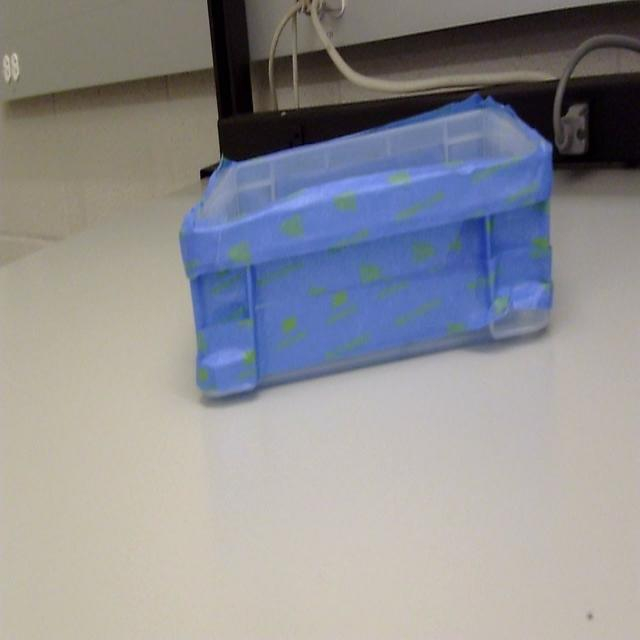bucket: (178, 95, 554, 405)
